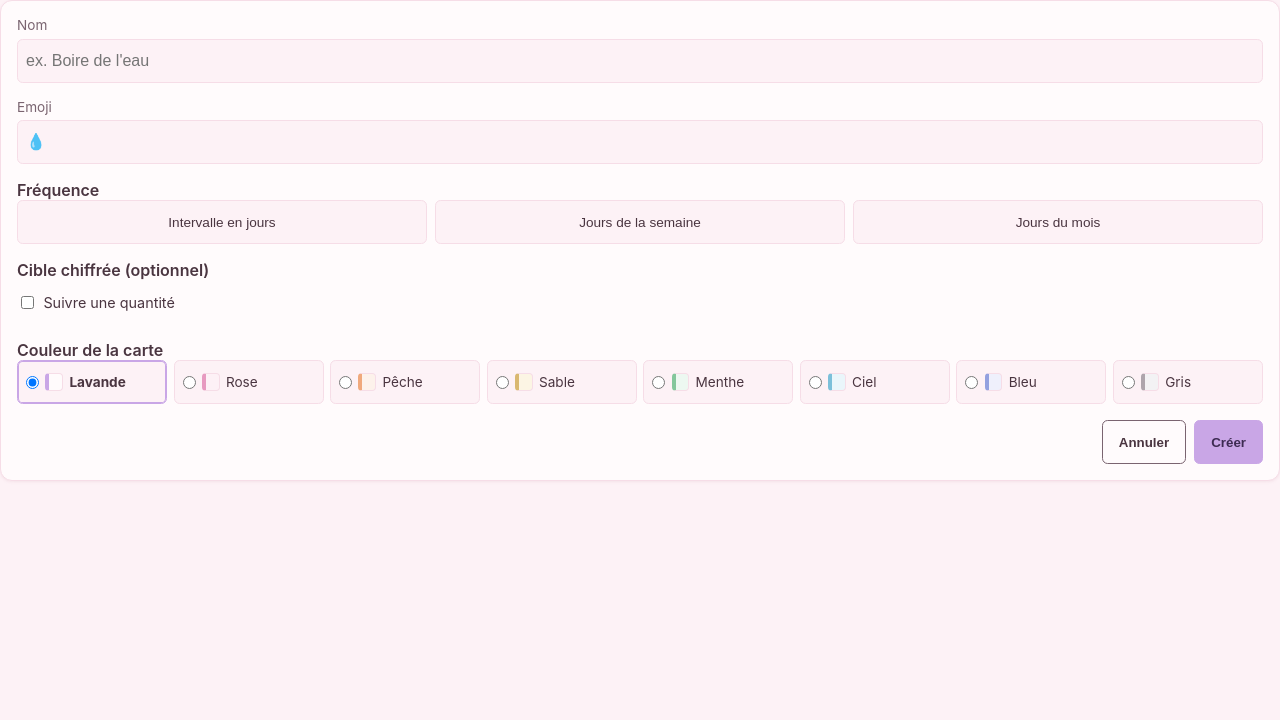
HabitForm (US-001) › bloque la création et affiche un message si aucun mode de fréquence n’est choisi (scénario 5)
The width and height of the screenshot is (1280, 720).
Type "Marcher" into the field labelled "Nom" at (640, 61), box [17, 39, 1263, 83]
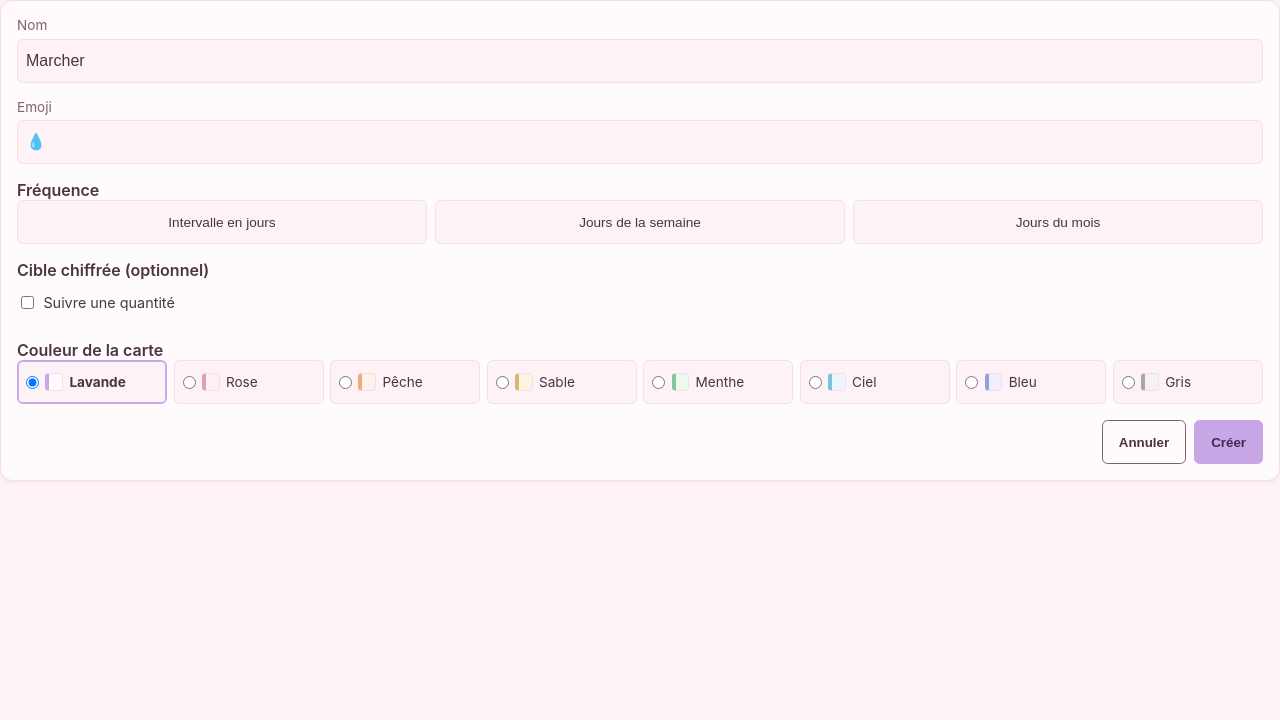
Click the button "Créer" at (1229, 442), box [1194, 420, 1263, 464]
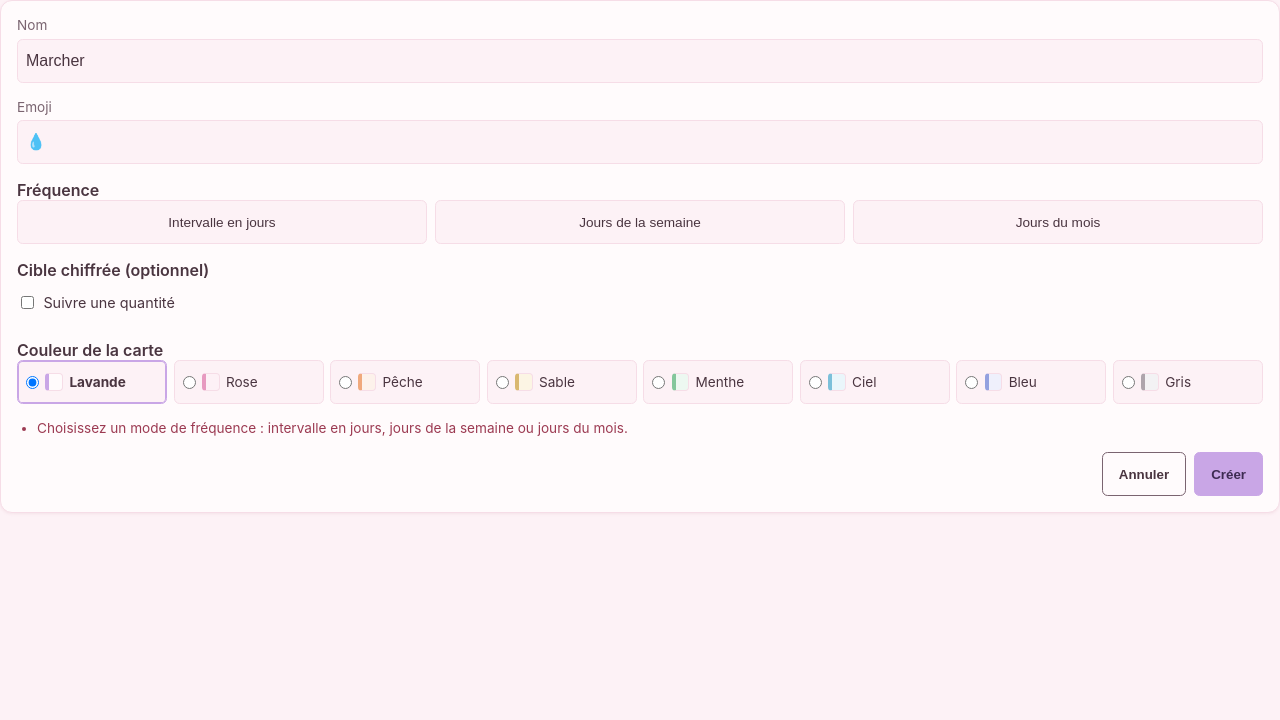
Expected: the message shows "fréquence", [37, 420, 628, 436]
